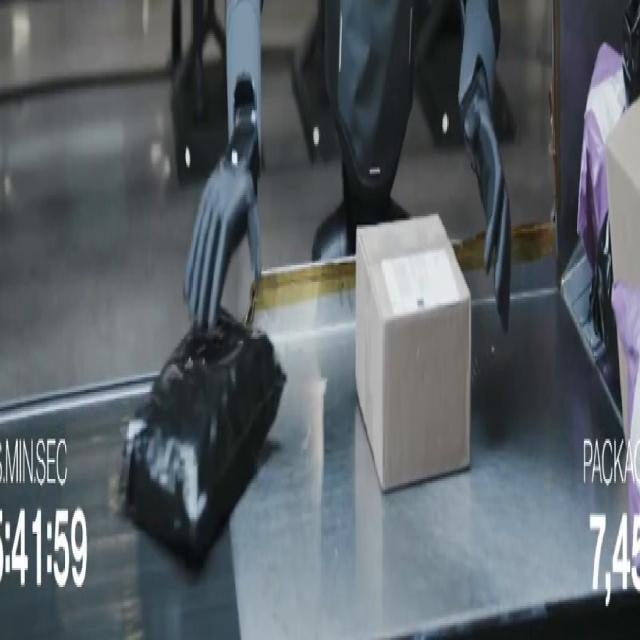package: (121, 312, 285, 567), (356, 217, 471, 491), (577, 45, 626, 269), (612, 282, 639, 519), (607, 102, 639, 286), (590, 219, 617, 356)
